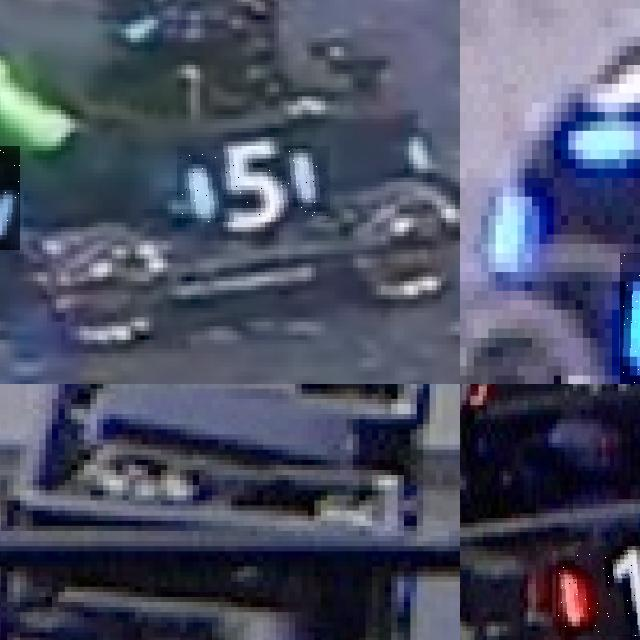B5: (177, 146, 330, 223), (0, 146, 19, 249)
R1: (556, 546, 640, 635)
